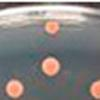orange: (3, 77, 24, 100), (41, 55, 61, 77), (43, 19, 62, 38), (87, 77, 100, 100)
